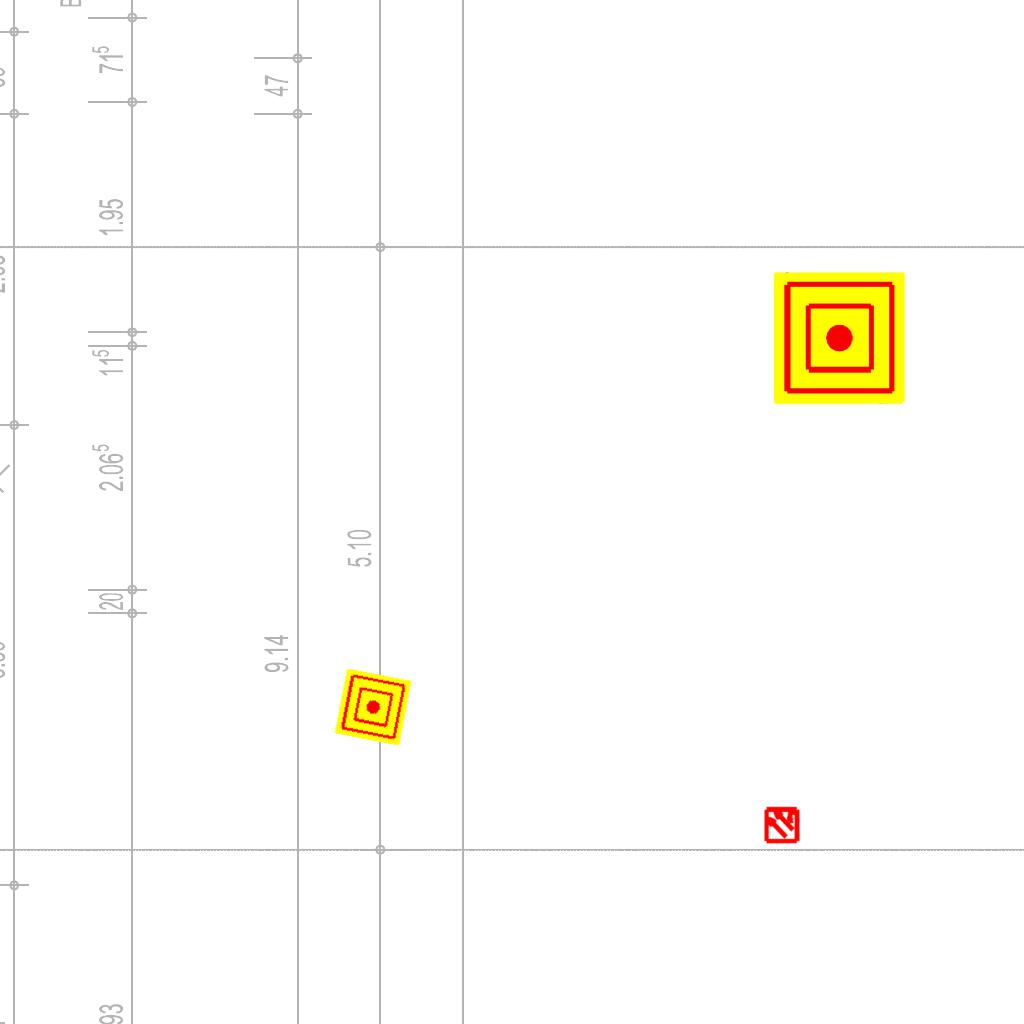NAM-Nichtautomatischer_Melder: (773, 272, 905, 404), (334, 668, 412, 746)
OT_Multisensormelder_(Kombination_RMO_WMD): (754, 796, 810, 852)
